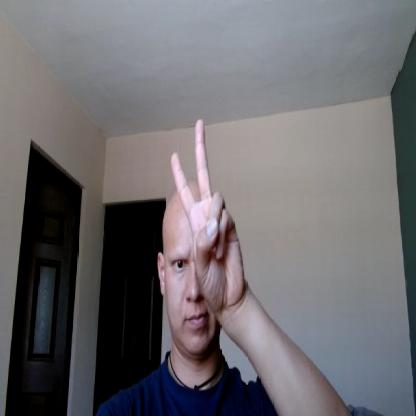V: (171, 117, 247, 310)
